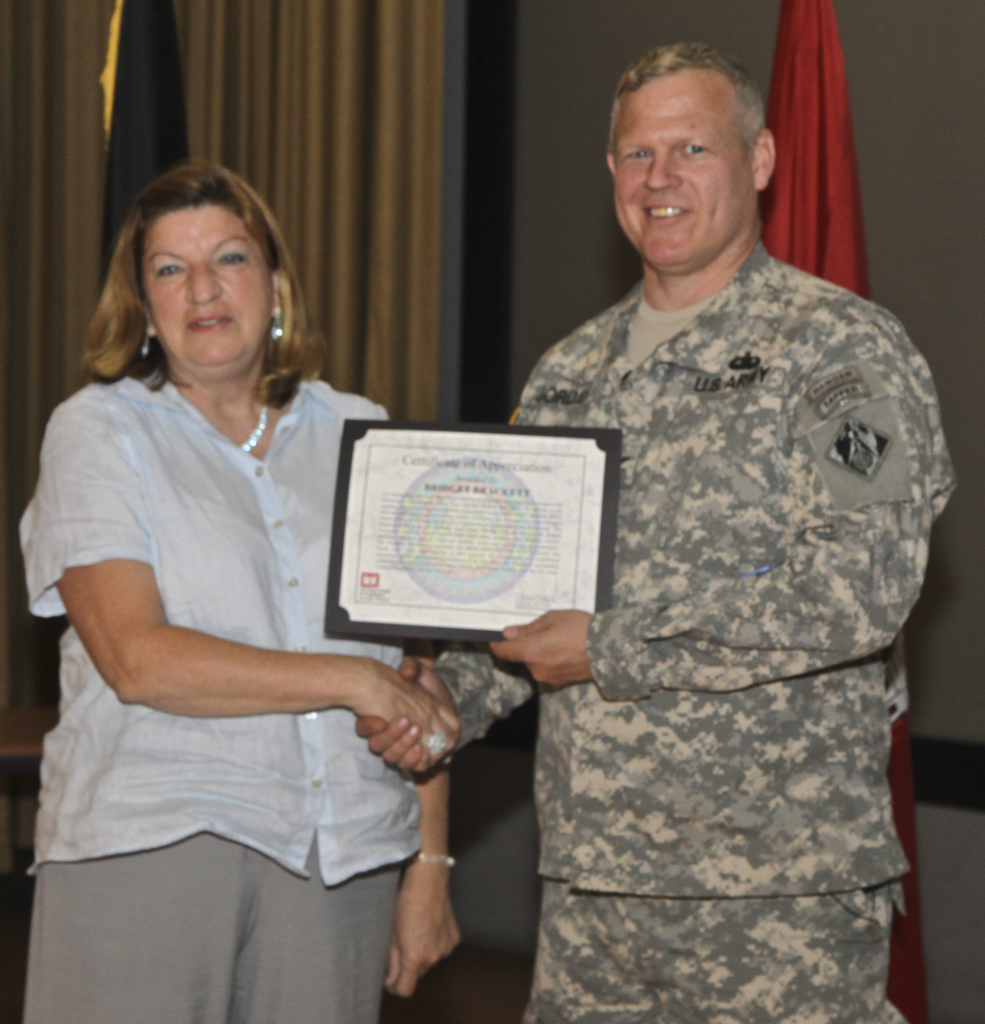Human_hand: (353, 653, 463, 783), (381, 879, 467, 1002), (487, 605, 598, 692)
